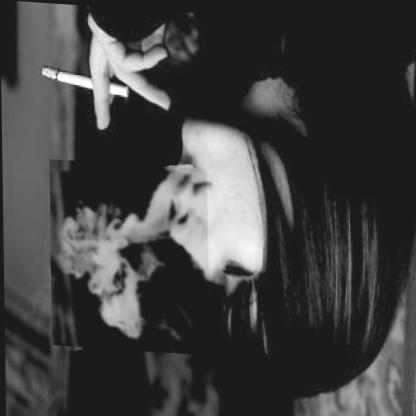smoke: (49, 159, 211, 353)
